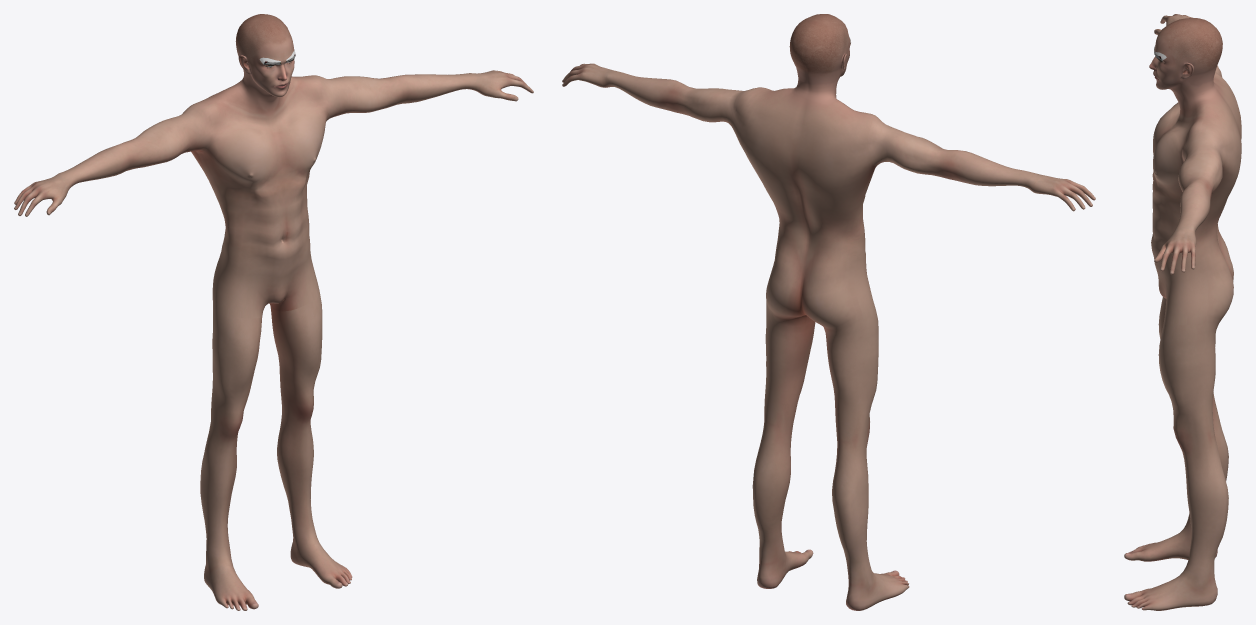
File: body (1).fbx
3 renders of one model, left to right at view 1: azimuth 30°, elevation 25°; view 2: azimuth 150°, elevation 25°; view 3: azimuth 270°, elevation 25°, orthographic. The views are drawn at different scales.
Visible parts, largest first — view 1: body; view 2: body; view 3: body.
Boxes of the visible parts, x1,y1,x2,y2 form: body: [14, 14, 533, 610]; body: [562, 14, 1095, 610]; body: [1124, 14, 1241, 610].
Size of the model in its own units: 169 by 177 by 33.56.
